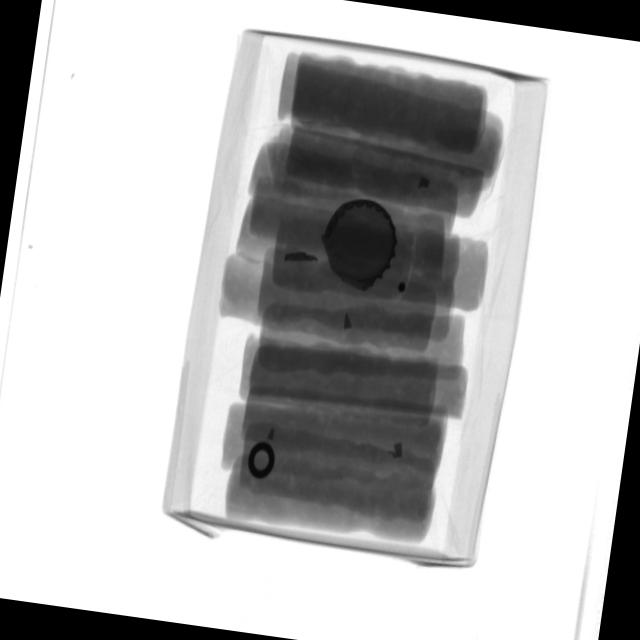ym: (317, 194, 405, 299), (247, 440, 279, 483), (285, 248, 321, 266), (394, 442, 405, 460), (344, 314, 355, 332), (267, 427, 278, 443), (419, 178, 431, 190), (398, 284, 407, 295)
